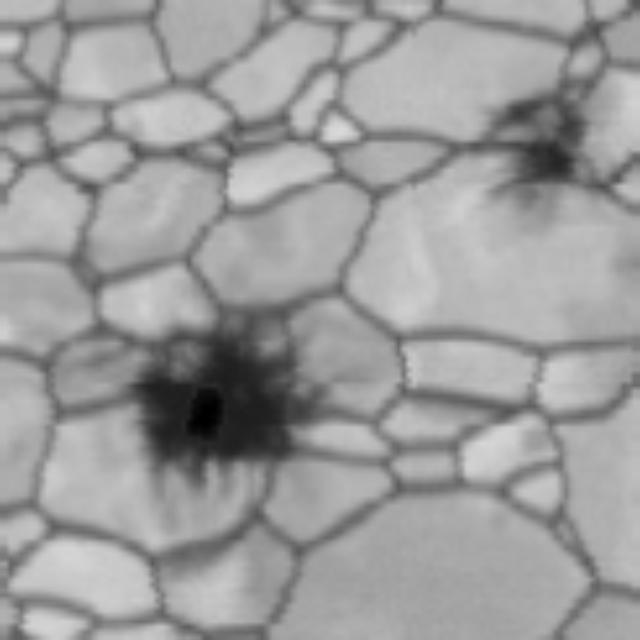good_void: (86, 273, 342, 517), (477, 77, 612, 232)
